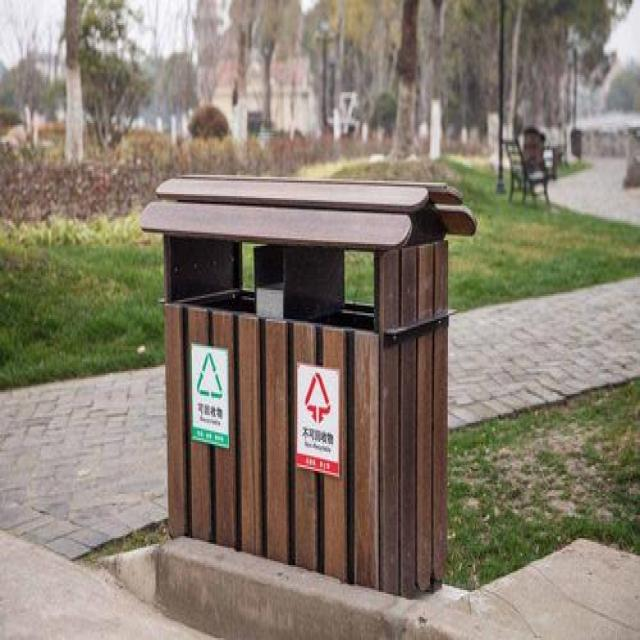garbage_bin: (138, 171, 476, 596)
